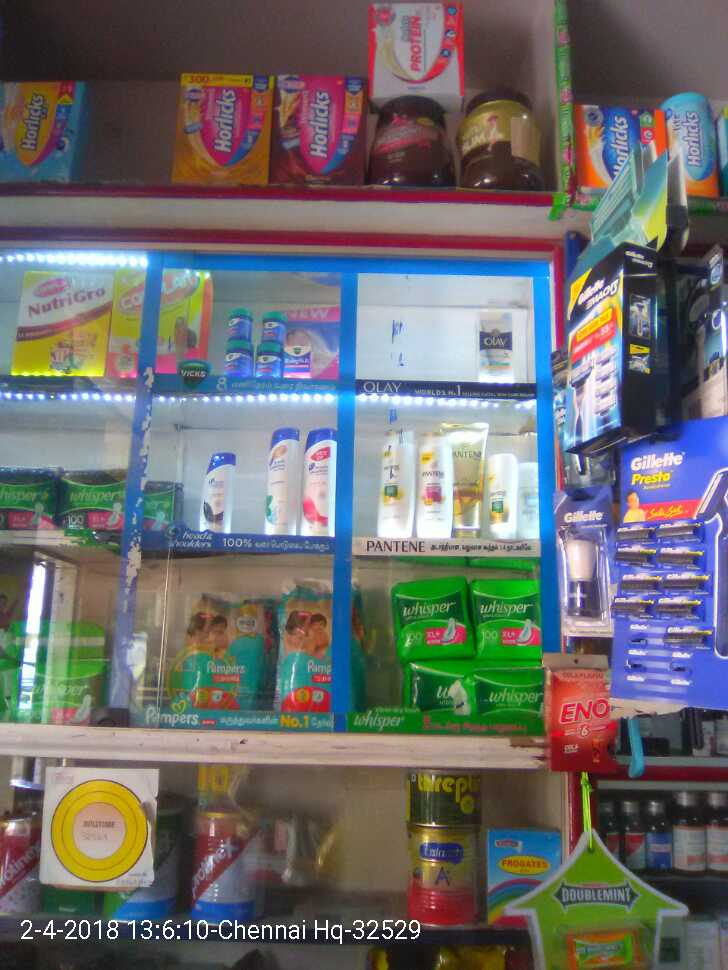vicks: (229, 307, 308, 381)
